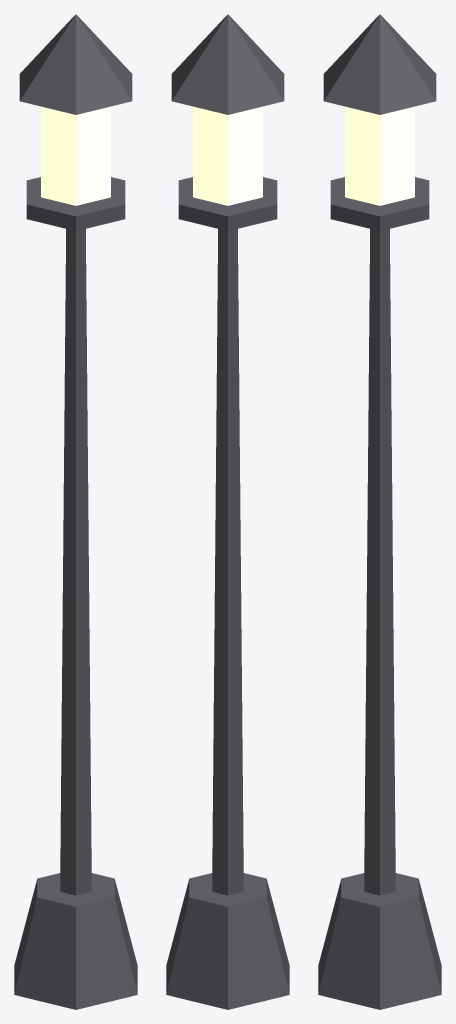
The model's file is lamp_tall.glb.
3 renders of one model, left to right at view 1: azimuth 90°, elevation 25°; view 2: azimuth 210°, elevation 25°; view 3: azimuth 270°, elevation 25°, orthographic.
Parts seen in each view (by area): view 1: lamp_tall; view 2: lamp_tall; view 3: lamp_tall.
Boxes of the visible parts, x1,y1,x2,y2 form: lamp_tall: [14, 14, 137, 1009]; lamp_tall: [166, 14, 289, 1009]; lamp_tall: [318, 14, 441, 1009].
Bounding box in the file's own units: 0.7 × 5.25 × 0.6062.
